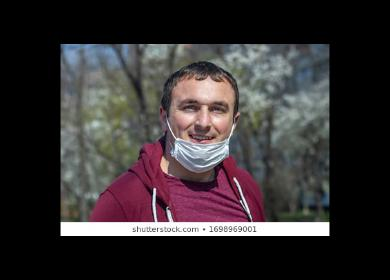mask_weared_incorrect: (171, 93, 233, 168)
